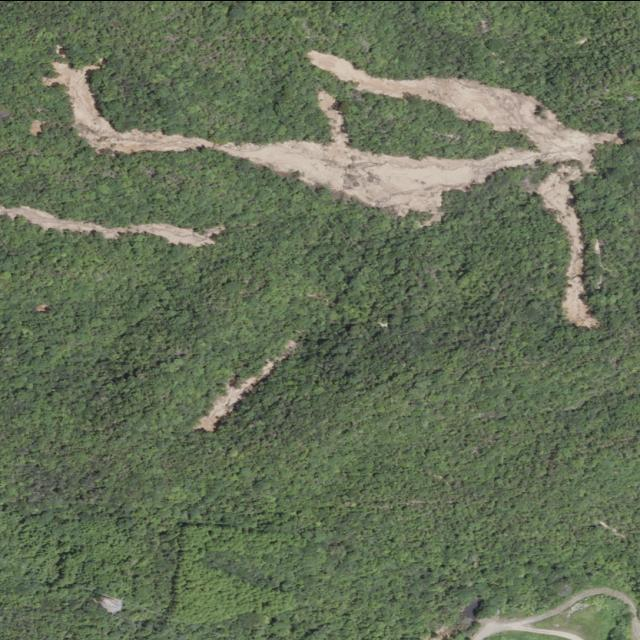landslide: (41, 49, 623, 327), (196, 341, 296, 431), (0, 205, 224, 245)
